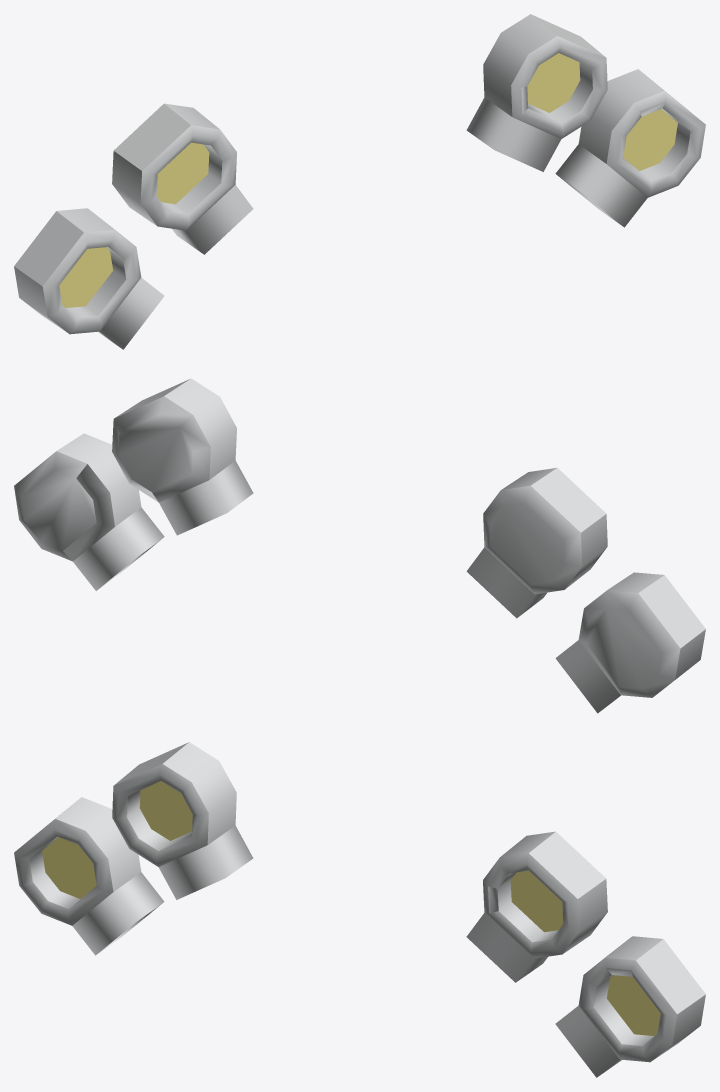
File: Car_10_FogLight.fbx
3 renders of one model, top to bottom at view 1: azimuth 30°, elevation 25°; view 2: azimuth 150°, elevation 25°; view 3: azimuth 330°, elevation 25°, orthographic.
Parts seen in each view (by area): view 1: Car_10_FogLight; view 2: Car_10_FogLight; view 3: Car_10_FogLight.
Part boxes in pixels (<box>): Car_10_FogLight: <box>14,14,705,349</box>; Car_10_FogLight: <box>14,378,705,713</box>; Car_10_FogLight: <box>14,742,705,1077</box>.
Size of the model in its own units: 111 by 10.33 by 33.7.
